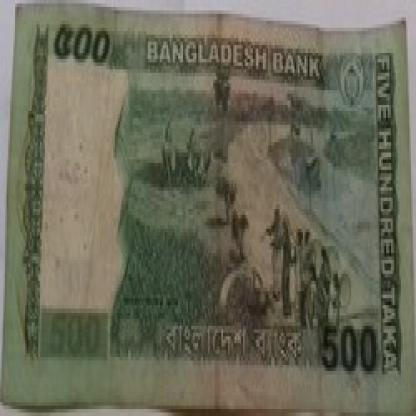500 taka: (40, 17, 121, 73)
currency: (0, 7, 415, 410)
